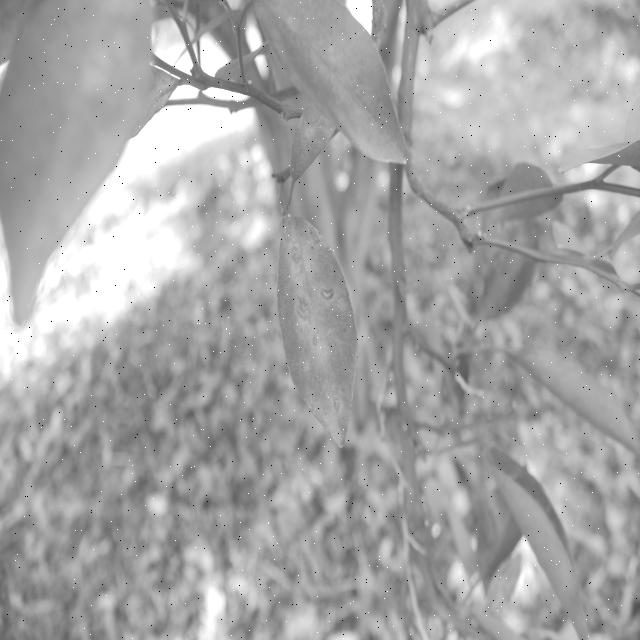canker: (284, 231, 349, 385), (69, 0, 144, 114), (275, 0, 352, 99)
